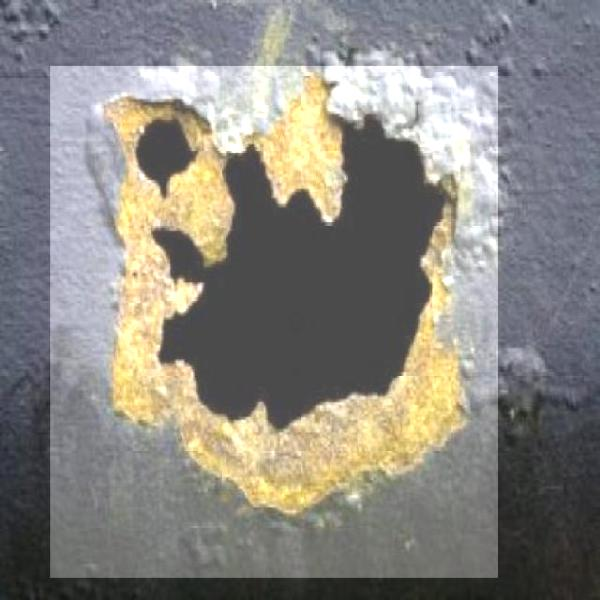crack: (50, 66, 498, 578)
